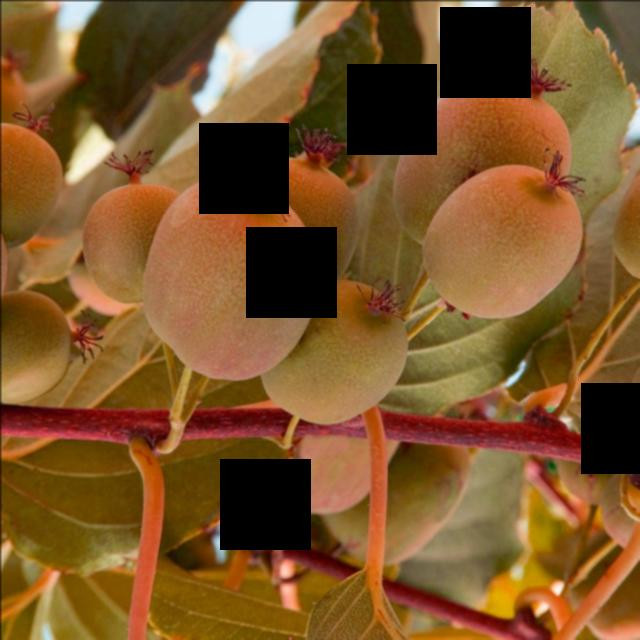kiwi: (135, 168, 330, 388), (391, 71, 578, 247), (419, 158, 592, 328), (223, 121, 373, 296), (253, 276, 413, 428), (323, 437, 475, 570), (78, 147, 190, 307), (1, 286, 112, 413), (260, 429, 394, 517), (1, 105, 72, 263), (557, 453, 628, 517), (610, 163, 640, 290), (604, 470, 640, 561)
